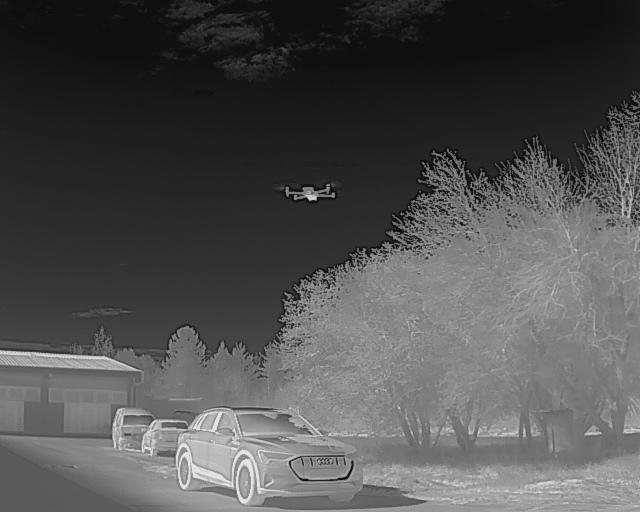drone: (275, 177, 342, 211)
